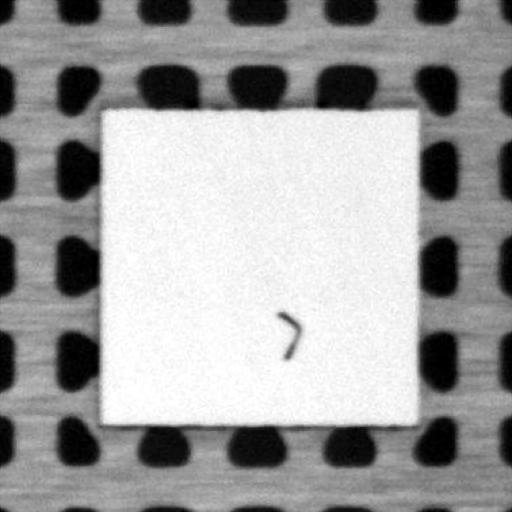DIE_INK: (275, 311, 302, 359)
